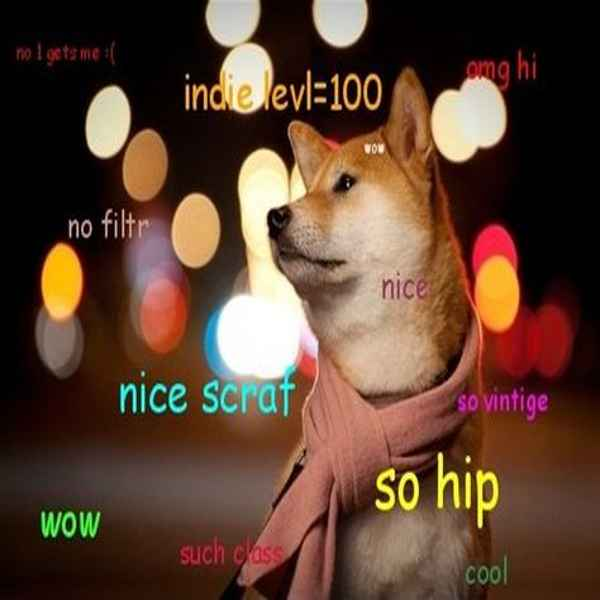doge: (262, 91, 436, 306)
